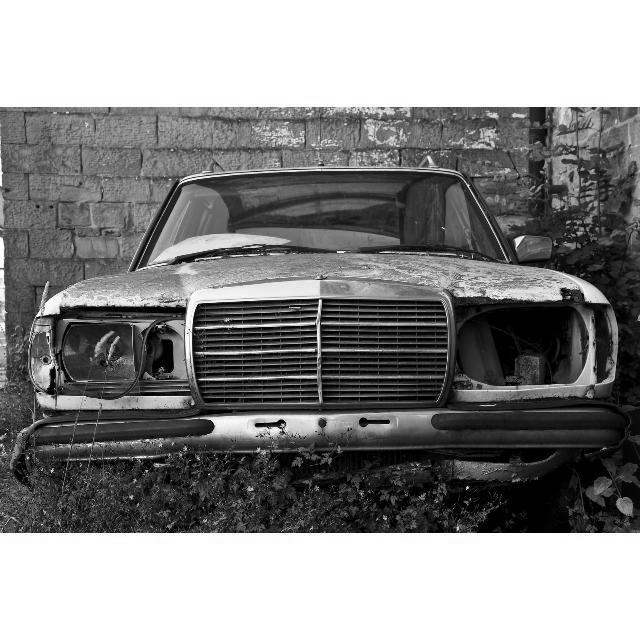Headlight-damage: (15, 297, 200, 407)
bonnet-dent: (55, 249, 587, 309)
front-bumper-dent: (20, 402, 638, 493)
